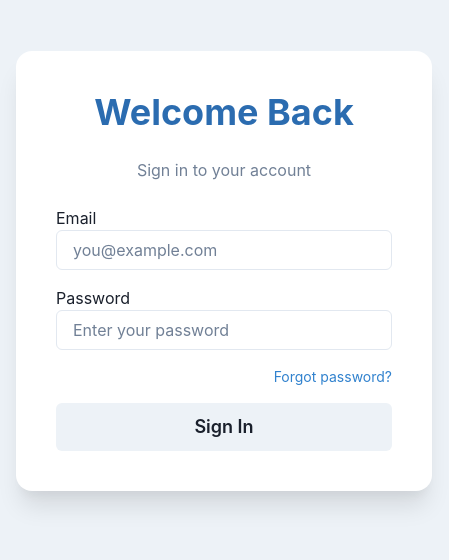
Test: Login › shows an error when the API rejects credentials
The width and height of the screenshot is (449, 560).
In the field with placeholder "you@example.com": (224, 250) left=56, top=230, right=392, bottom=270, type "user@example.com"
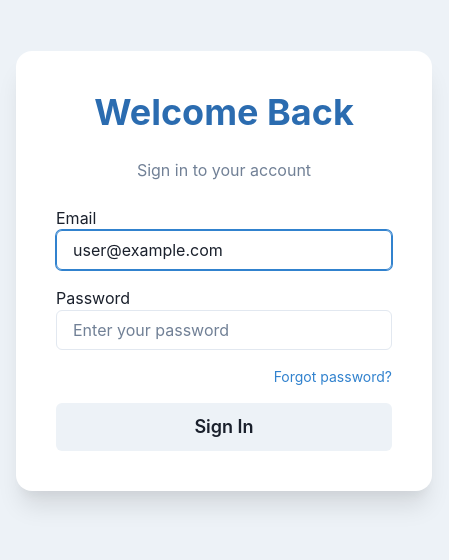
In the password field with placeholder "Enter your password": (224, 330) left=56, top=310, right=392, bottom=350, type "password1"
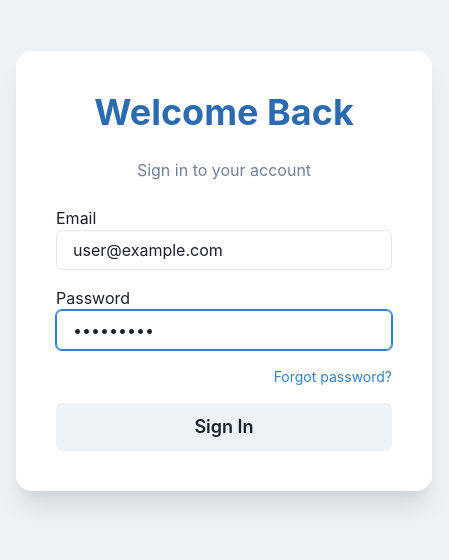
Click the button "Sign In": (224, 427) left=56, top=403, right=392, bottom=451
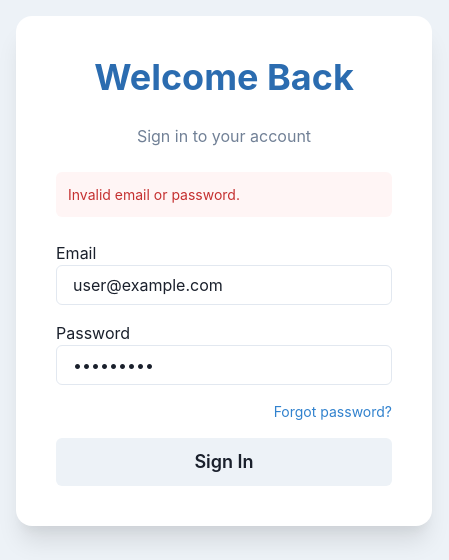
Expected: the text "Invalid email or password." is shown, left=68, top=186, right=240, bottom=203
